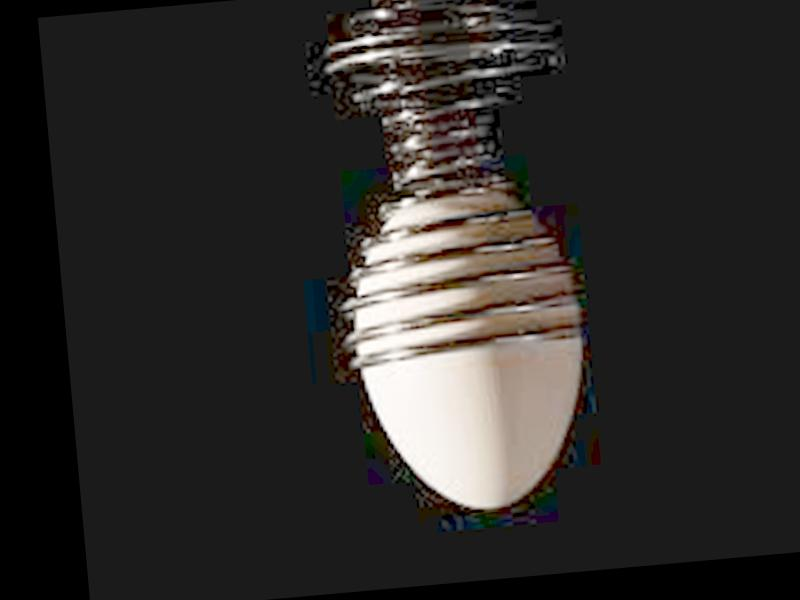Eggs: (343, 184, 594, 520)
